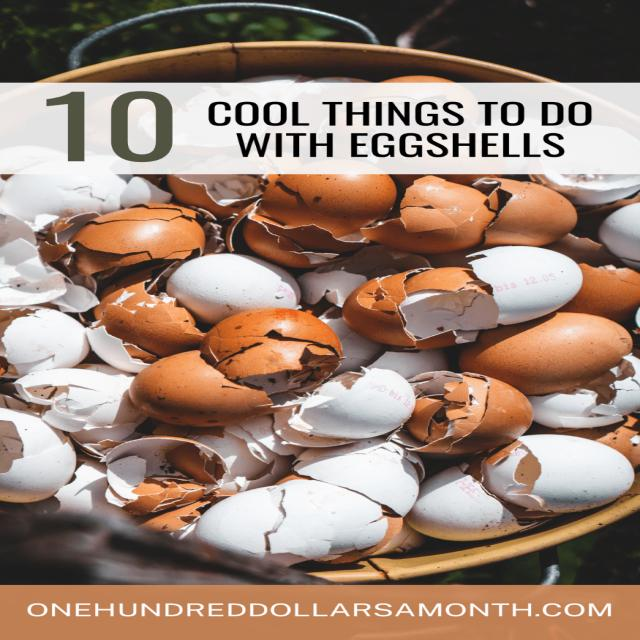organic: (117, 347, 271, 432), (458, 316, 634, 390), (215, 492, 392, 564), (358, 280, 534, 351), (482, 434, 634, 513), (200, 308, 348, 385), (403, 371, 534, 453), (357, 80, 488, 161), (404, 463, 536, 540), (76, 207, 216, 275), (98, 434, 230, 506), (363, 175, 484, 253), (164, 254, 301, 322), (287, 443, 413, 516), (288, 367, 411, 441), (0, 370, 122, 437), (90, 291, 206, 360), (235, 204, 361, 267), (468, 176, 576, 248), (264, 173, 396, 230), (302, 244, 422, 302), (178, 425, 286, 489), (0, 411, 76, 497), (1, 174, 124, 224), (0, 310, 91, 374), (555, 263, 640, 321), (43, 459, 117, 519), (165, 175, 264, 217), (524, 388, 626, 428), (364, 341, 444, 382), (4, 156, 130, 180), (596, 200, 638, 269), (1, 145, 68, 172), (74, 362, 136, 376)
